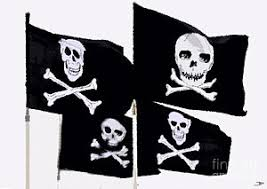Jolly Roger Flag: (133, 1, 251, 117), (25, 17, 133, 118), (136, 109, 238, 179), (56, 117, 134, 171)
